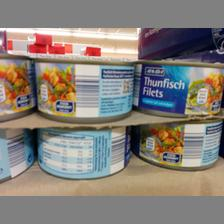Fisch: (34, 56, 134, 120), (130, 111, 222, 173), (36, 123, 132, 179), (134, 54, 222, 114)
